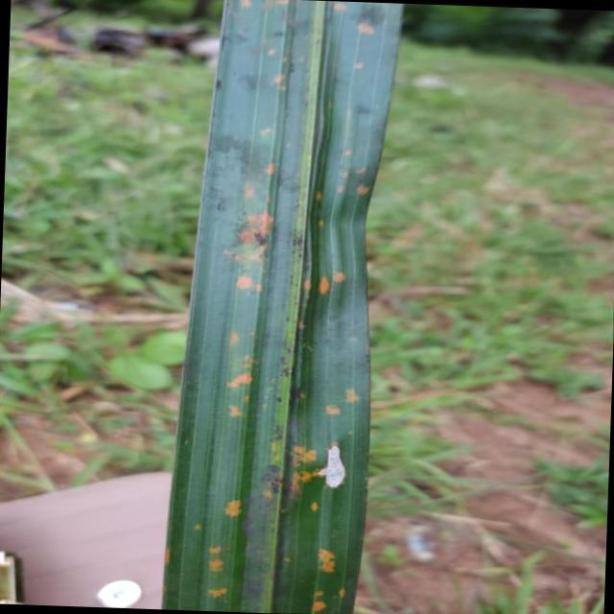Kalium: (161, 0, 403, 614)
